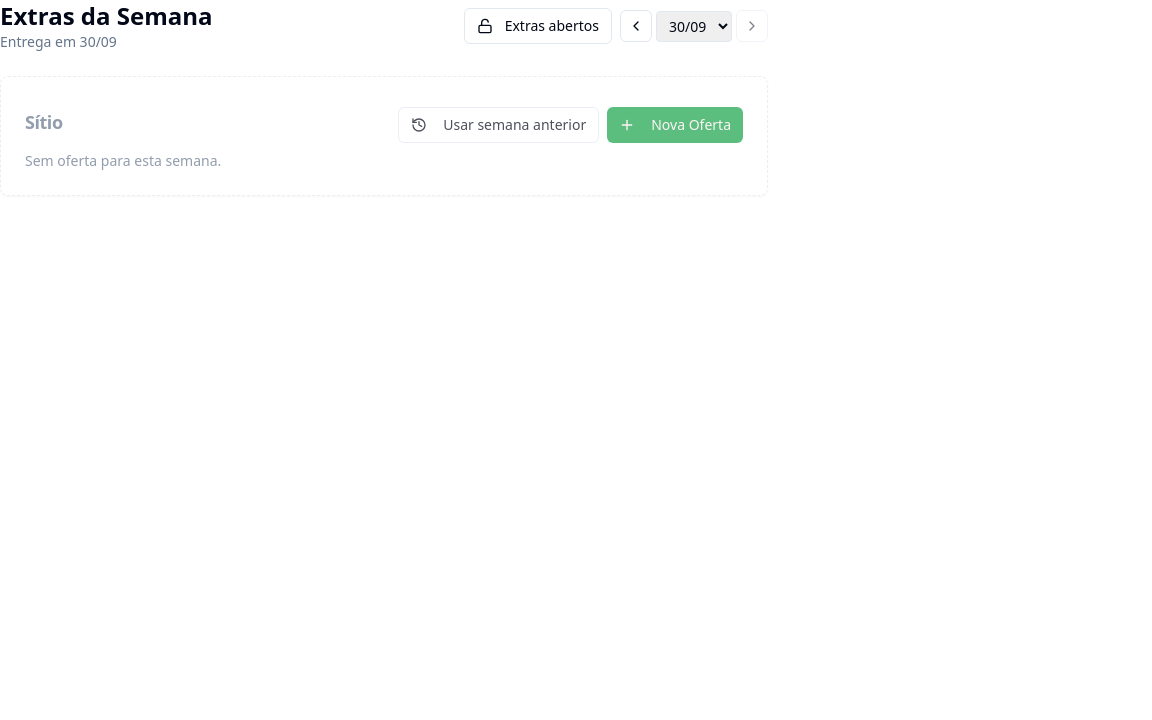
Test: OfertasPage — montagem da oferta › não deixa salvar com produto sem nome
This screenshot has width=1152, height=720.
Click the button "Nova Oferta" at (675, 125), box [607,107,743,143]
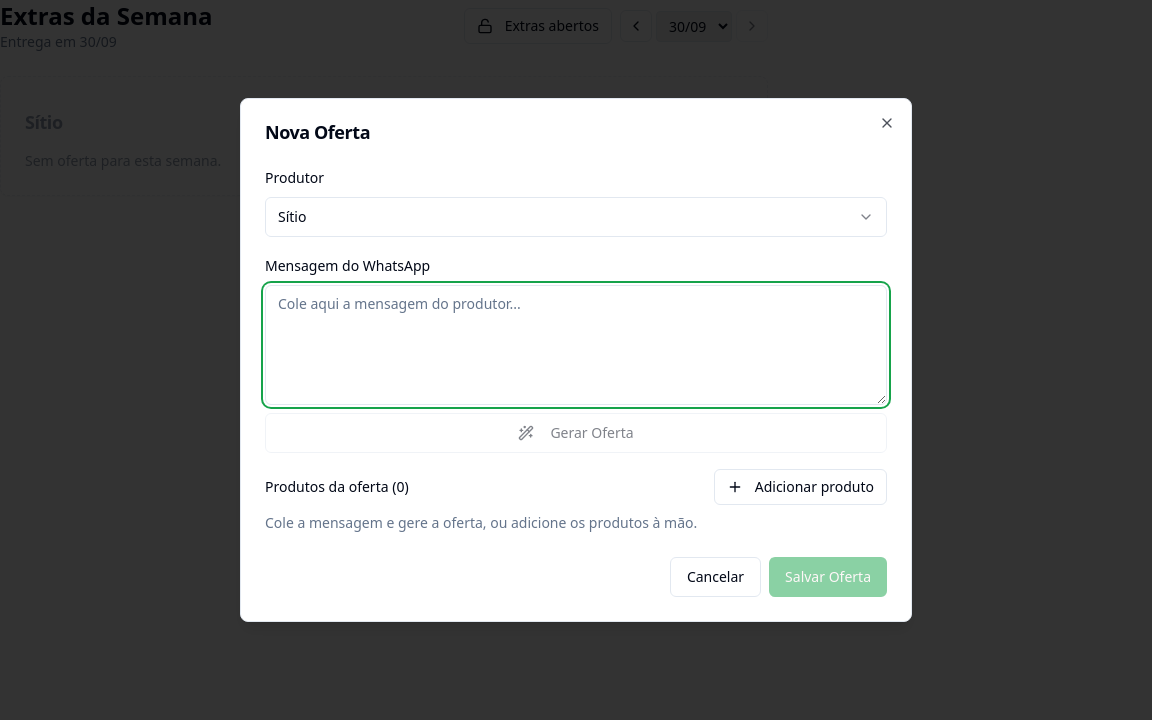
Type "Macaxeira Natural kg R$4,00" into the text box with placeholder "Cole aqui a mensagem do produtor..." at (576, 345), box [265,285,887,405]
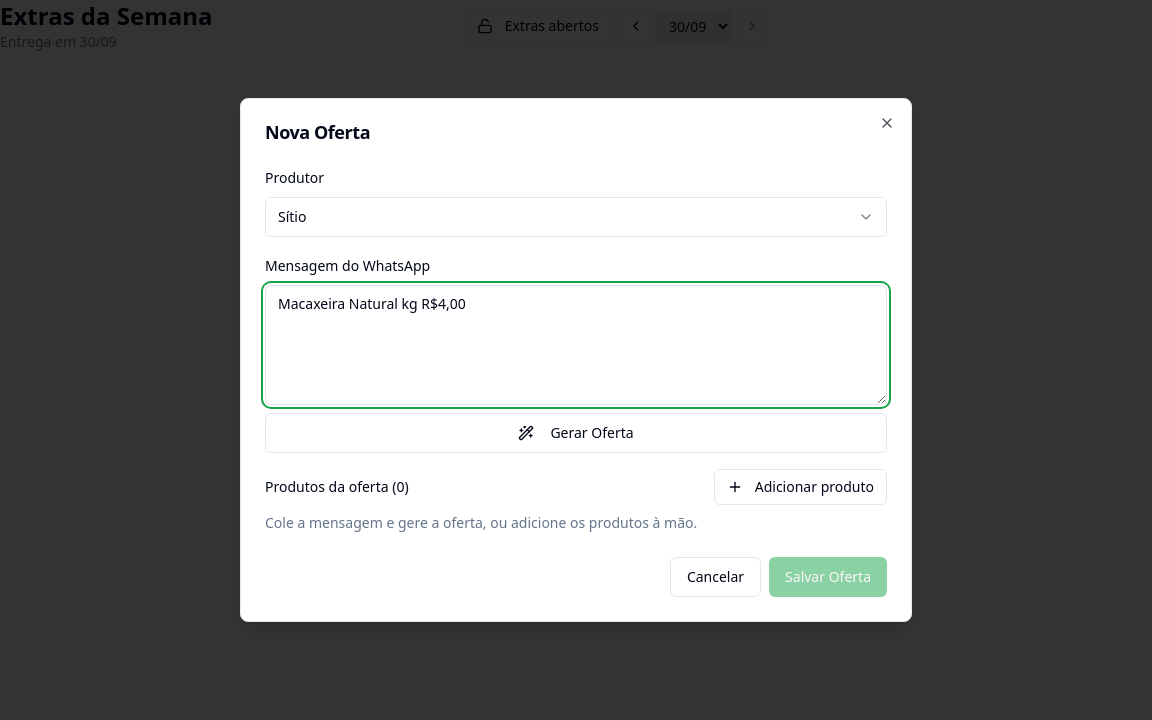
Click the button "Gerar Oferta" at (576, 433), box [265,413,887,453]
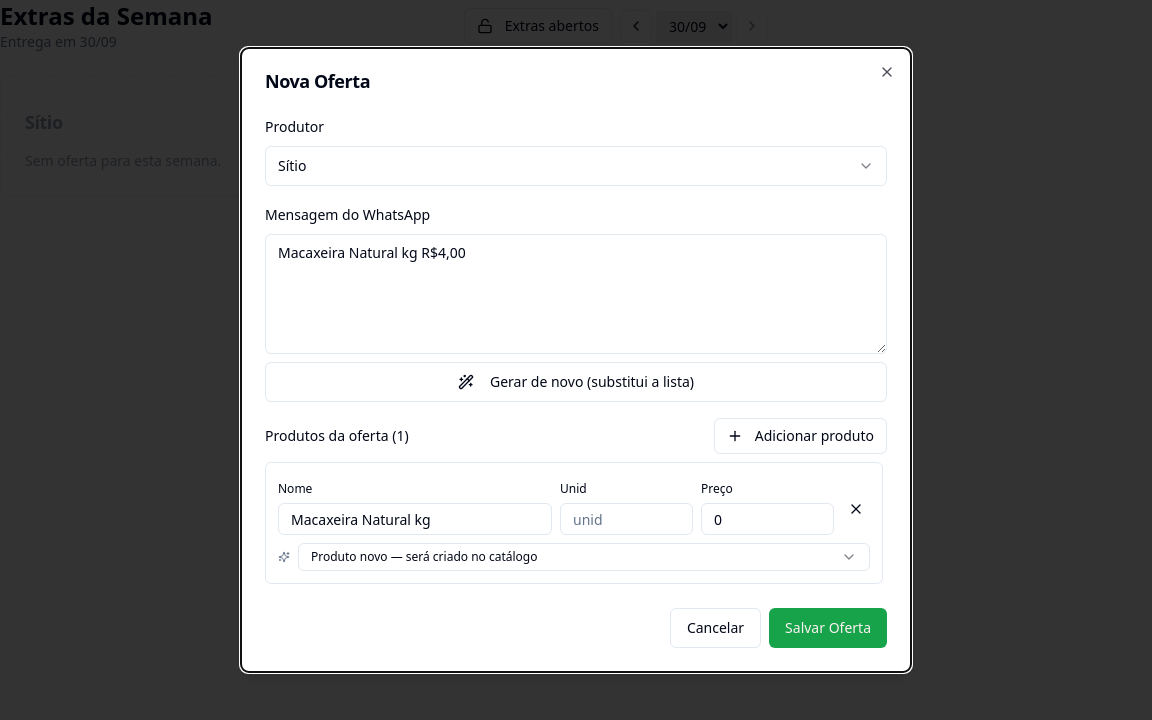
Click the button "Adicionar produto" at (800, 436), box [714,418,887,454]
(page scrolled)
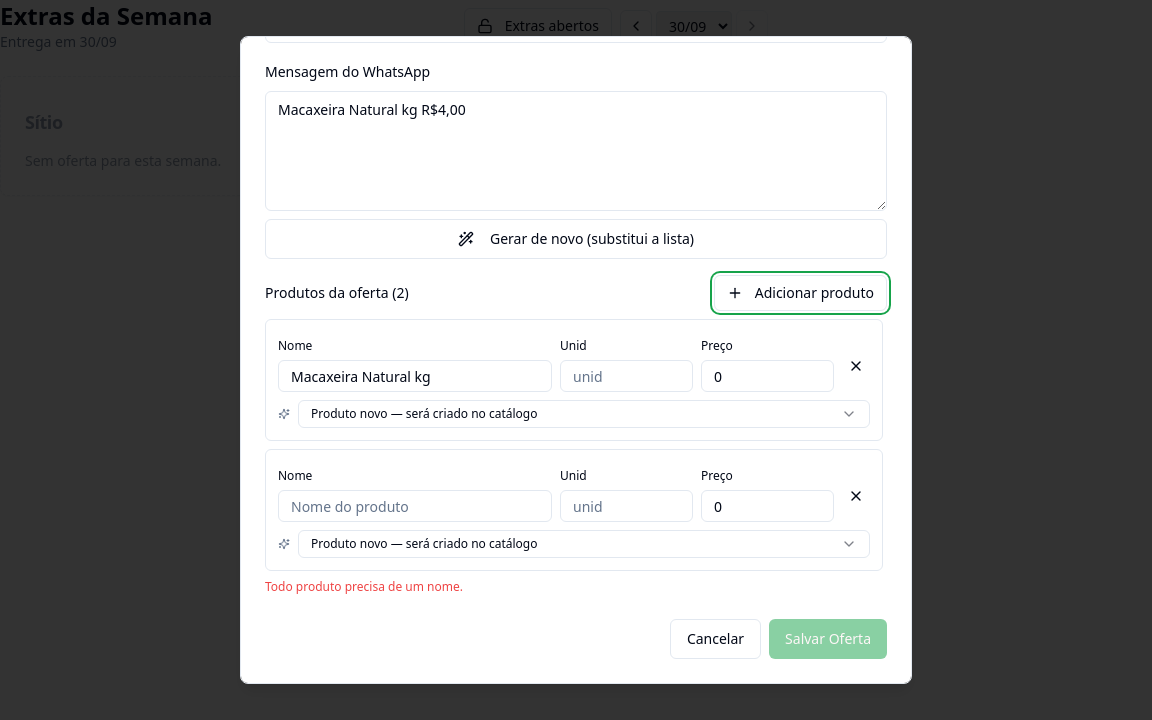
Check: the button "Salvar Oferta" is disabled, box [769,619,887,659]
